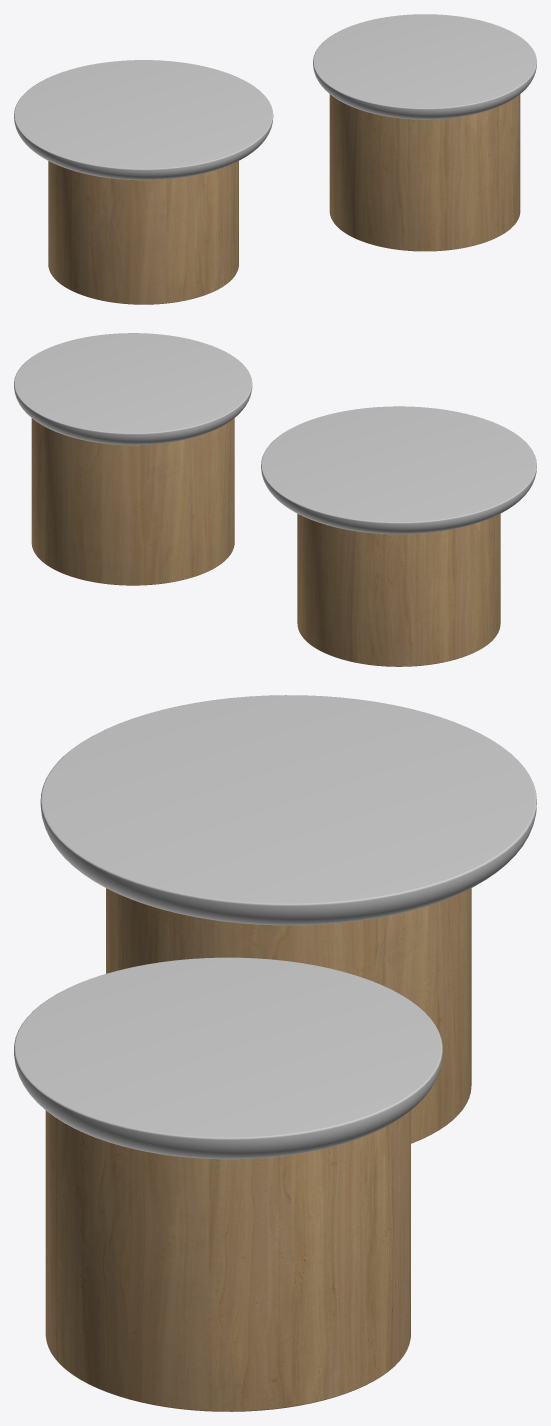
The model's file is Sunday & Monday.fbx.
3 views of the same model, one above another, from view 1: azimuth 30°, elevation 25°; view 2: azimuth 150°, elevation 25°; view 3: azimuth 270°, elevation 25° (orthographic). The views are drawn at different scales.
Visible parts, largest first — view 1: Sunday___Monday_002, Sunday___Monday_004, Sunday___Monday_003, Sunday___Monday_001; view 2: Sunday___Monday_002, Sunday___Monday_004, Sunday___Monday_003, Sunday___Monday_001; view 3: Sunday___Monday_002, Sunday___Monday_004, Sunday___Monday_001, Sunday___Monday_003.
Part boxes in pixels (x1=…): Sunday___Monday_002: x1=329, y1=94, x2=520, y2=251; Sunday___Monday_004: x1=14, y1=60, x2=273, y2=180; Sunday___Monday_003: x1=48, y1=161, x2=238, y2=304; Sunday___Monday_001: x1=313, y1=14, x2=536, y2=119; Sunday___Monday_002: x1=31, y1=418, x2=234, y2=585; Sunday___Monday_004: x1=261, y1=406, x2=536, y2=534; Sunday___Monday_003: x1=297, y1=514, x2=500, y2=666; Sunday___Monday_001: x1=14, y1=333, x2=252, y2=445; Sunday___Monday_002: x1=45, y1=1110, x2=410, y2=1411; Sunday___Monday_004: x1=40, y1=695, x2=536, y2=925; Sunday___Monday_001: x1=14, y1=957, x2=442, y2=1159; Sunday___Monday_003: x1=106, y1=888, x2=471, y2=1143.
Bounding box in the file's own units: 152 × 46 × 75.85.
